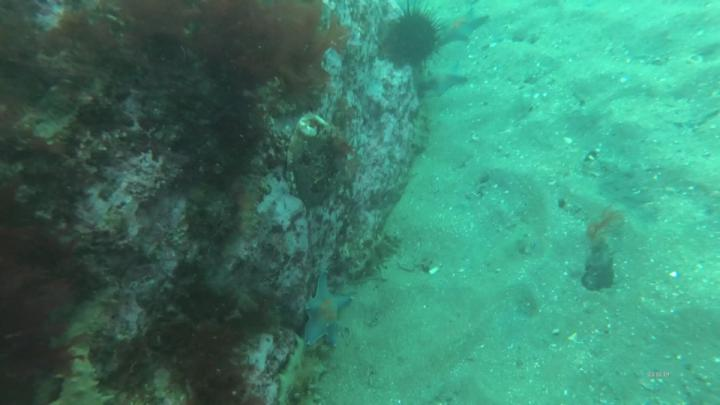echinus: (383, 2, 445, 72)
holothurian: (278, 339, 324, 403), (347, 239, 406, 282), (410, 106, 433, 156)
starfish: (307, 274, 355, 355), (444, 5, 491, 50)
waterweeds: (196, 3, 341, 105)
